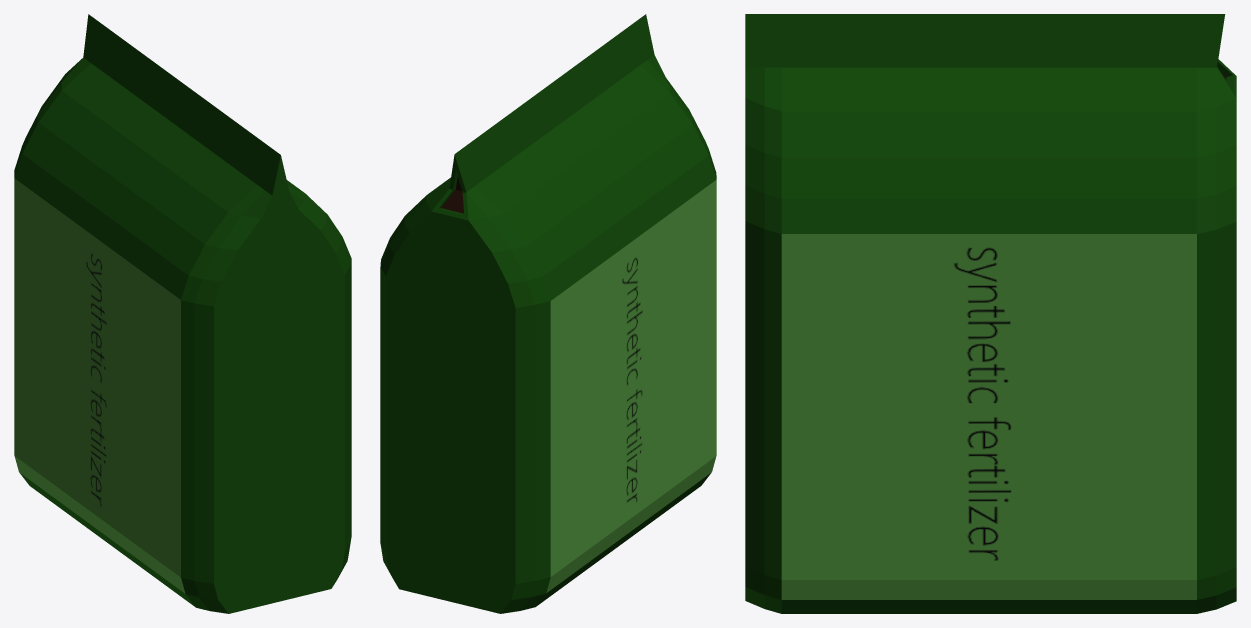
File: syntetishe mest.fbx
3 views of the same model, side by side, from view 1: azimuth 30°, elevation 25°; view 2: azimuth 150°, elevation 25°; view 3: azimuth 270°, elevation 25° (orthographic). The views are drawn at different scales.
Parts seen in each view (by area): view 1: Cube; view 2: Cube; view 3: Cube.
Part boxes in pixels (x1,y1,x2,y2): Cube: (14, 14, 351, 613); Cube: (380, 14, 716, 613); Cube: (745, 14, 1236, 613).
Size of the model in its own units: 0.3 by 0.75 by 0.6.
